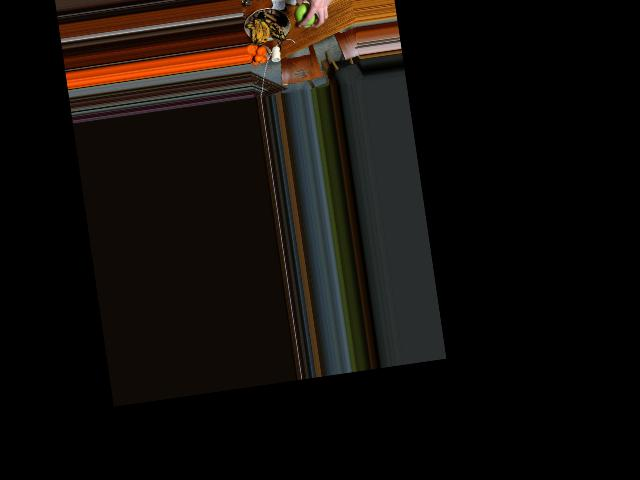apple: (293, 0, 318, 28)
